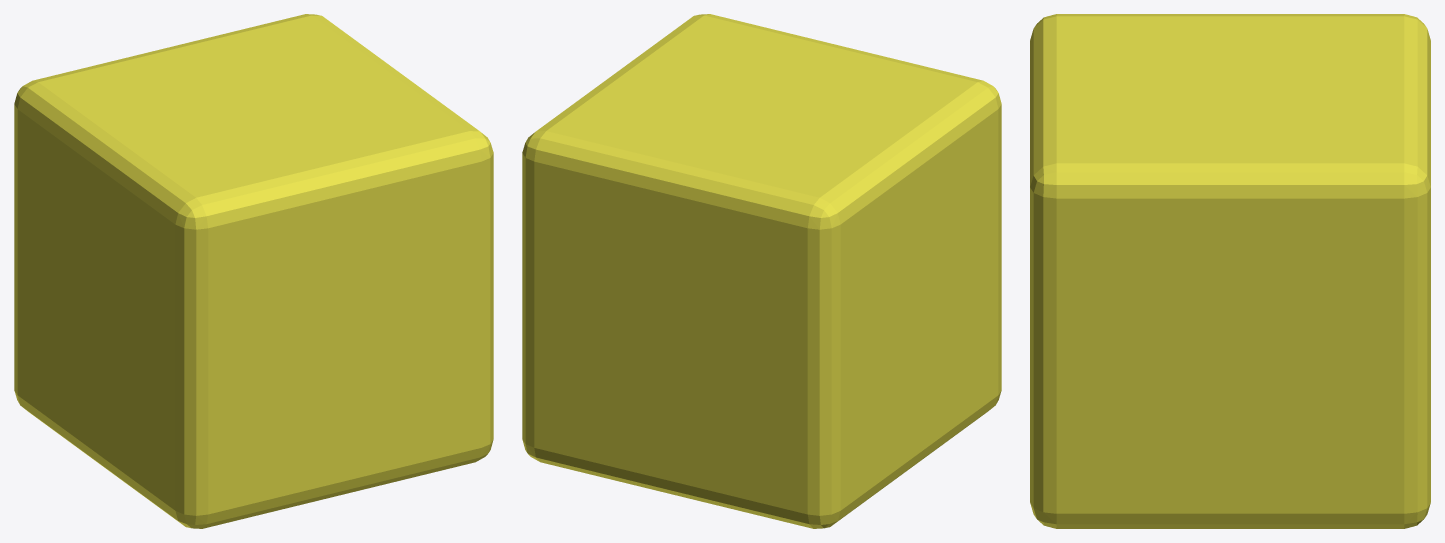
Rendered from Quad.fbx.
3 views of the same model, side by side, from view 1: azimuth 30°, elevation 25°; view 2: azimuth 150°, elevation 25°; view 3: azimuth 270°, elevation 25° (orthographic). The views are drawn at different scales.
Parts seen in each view (by area): view 1: Cube; view 2: Cube; view 3: Cube.
Part boxes in pixels (x1,y1,x2,y2): Cube: (14, 14, 493, 528); Cube: (522, 14, 1001, 528); Cube: (1030, 14, 1430, 528).
Size of the model in its own units: 200 by 200 by 200.
